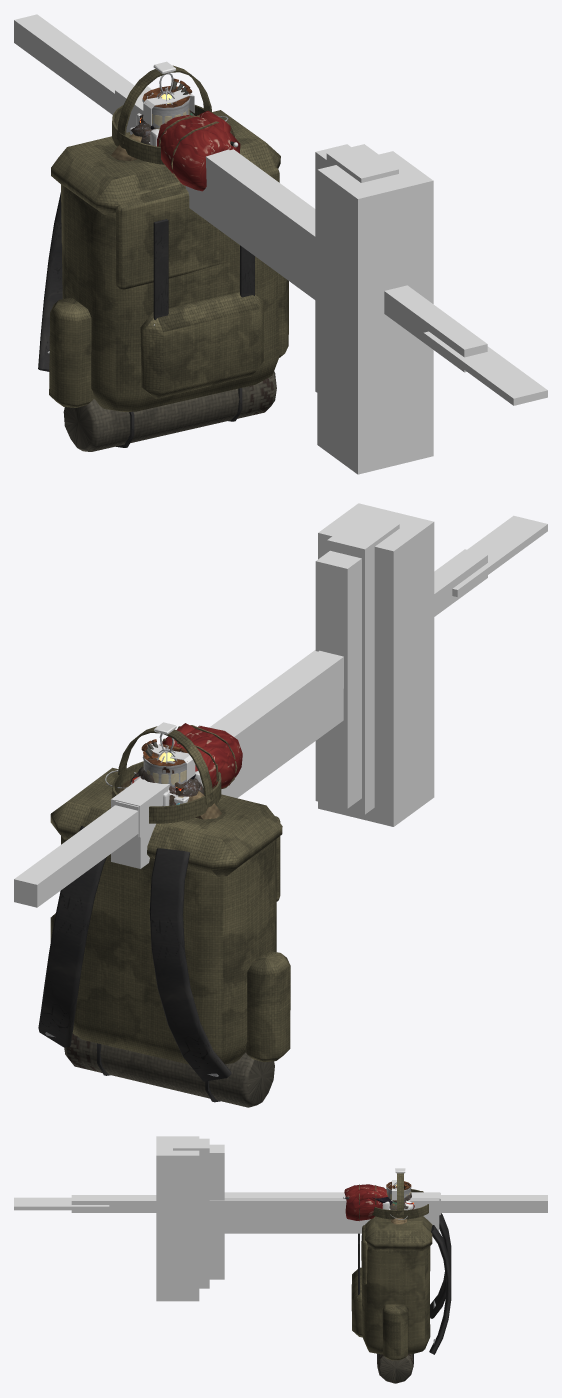
The model's file is Kit_Tools.fbx.
The picture shows the model from 3 angles, top to bottom: view 1: azimuth 30°, elevation 25°; view 2: azimuth 150°, elevation 25°; view 3: azimuth 270°, elevation 25°; orthographic projection. The views are drawn at different scales.
Parts seen in each view (by area): view 1: Backpack, COL_Head (×3), COL_Handle (×2), COL_Shaft, BoarMeat, COL_Blade, Headlamp, Noisemaker; view 2: Backpack, COL_Head (×3), COL_Handle (×2), COL_Shaft, Headlamp, COL_Blade, BoarMeat, Noisemaker; view 3: Backpack, COL_Head (×3), COL_Handle (×2), COL_Shaft, BoarMeat, COL_Blade, Headlamp.
Part boxes in pixels (x1,y1,x2,y2): Backpack: [38, 110, 288, 451]; COL_Head (×3): [315, 144, 433, 474]; COL_Handle (×2): [115, 85, 315, 299]; COL_Shaft: [14, 14, 487, 372]; BoarMeat: [157, 110, 240, 191]; COL_Blade: [423, 331, 547, 405]; Headlamp: [112, 61, 211, 164]; Noisemaker: [142, 73, 194, 128]; Backpack: [38, 767, 290, 1107]; COL_Head (×3): [315, 503, 434, 826]; COL_Handle (×2): [111, 650, 343, 868]; COL_Shaft: [14, 549, 487, 907]; Headlamp: [112, 722, 221, 823]; COL_Blade: [452, 515, 547, 597]; BoarMeat: [162, 723, 242, 789]; Noisemaker: [141, 733, 195, 786]; Backpack: [351, 1191, 451, 1383]; COL_Head (×3): [156, 1136, 224, 1301]; COL_Handle (×2): [209, 1192, 440, 1233]; COL_Shaft: [71, 1195, 547, 1212]; BoarMeat: [344, 1184, 387, 1221]; COL_Blade: [14, 1197, 109, 1210]; Headlamp: [372, 1168, 428, 1219].
Size of the model in its own units: 0.426 by 0.731 by 1.62.
